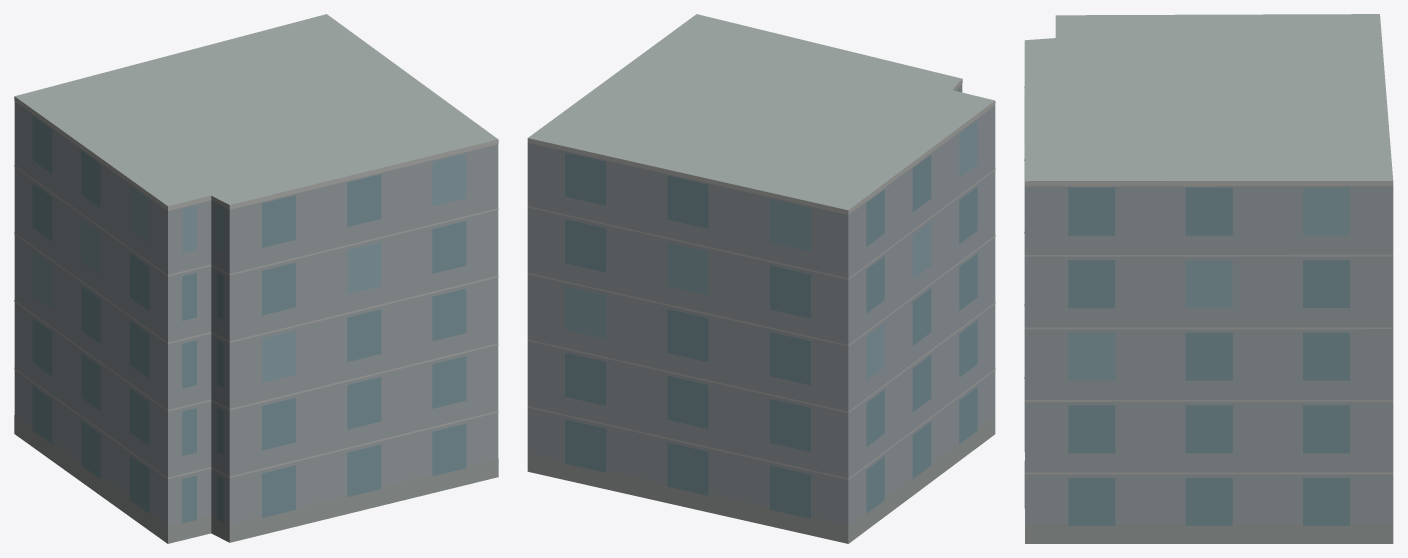
File: survey-upis-32938042.glb
3 views of the same model, side by side, from view 1: azimuth 30°, elevation 25°; view 2: azimuth 150°, elevation 25°; view 3: azimuth 270°, elevation 25° (orthographic). The views are drawn at different scales.
Visible parts, largest first — view 1: survey-upis-32938042.tmp; view 2: survey-upis-32938042.tmp; view 3: survey-upis-32938042.tmp.
Boxes of the visible parts, box(x1,y1,x2,y2) form: survey-upis-32938042.tmp: box(14, 14, 498, 543); survey-upis-32938042.tmp: box(527, 14, 995, 543); survey-upis-32938042.tmp: box(1024, 14, 1393, 543).
Size of the model in its own units: 17.15 by 17.33 by 15.99.
